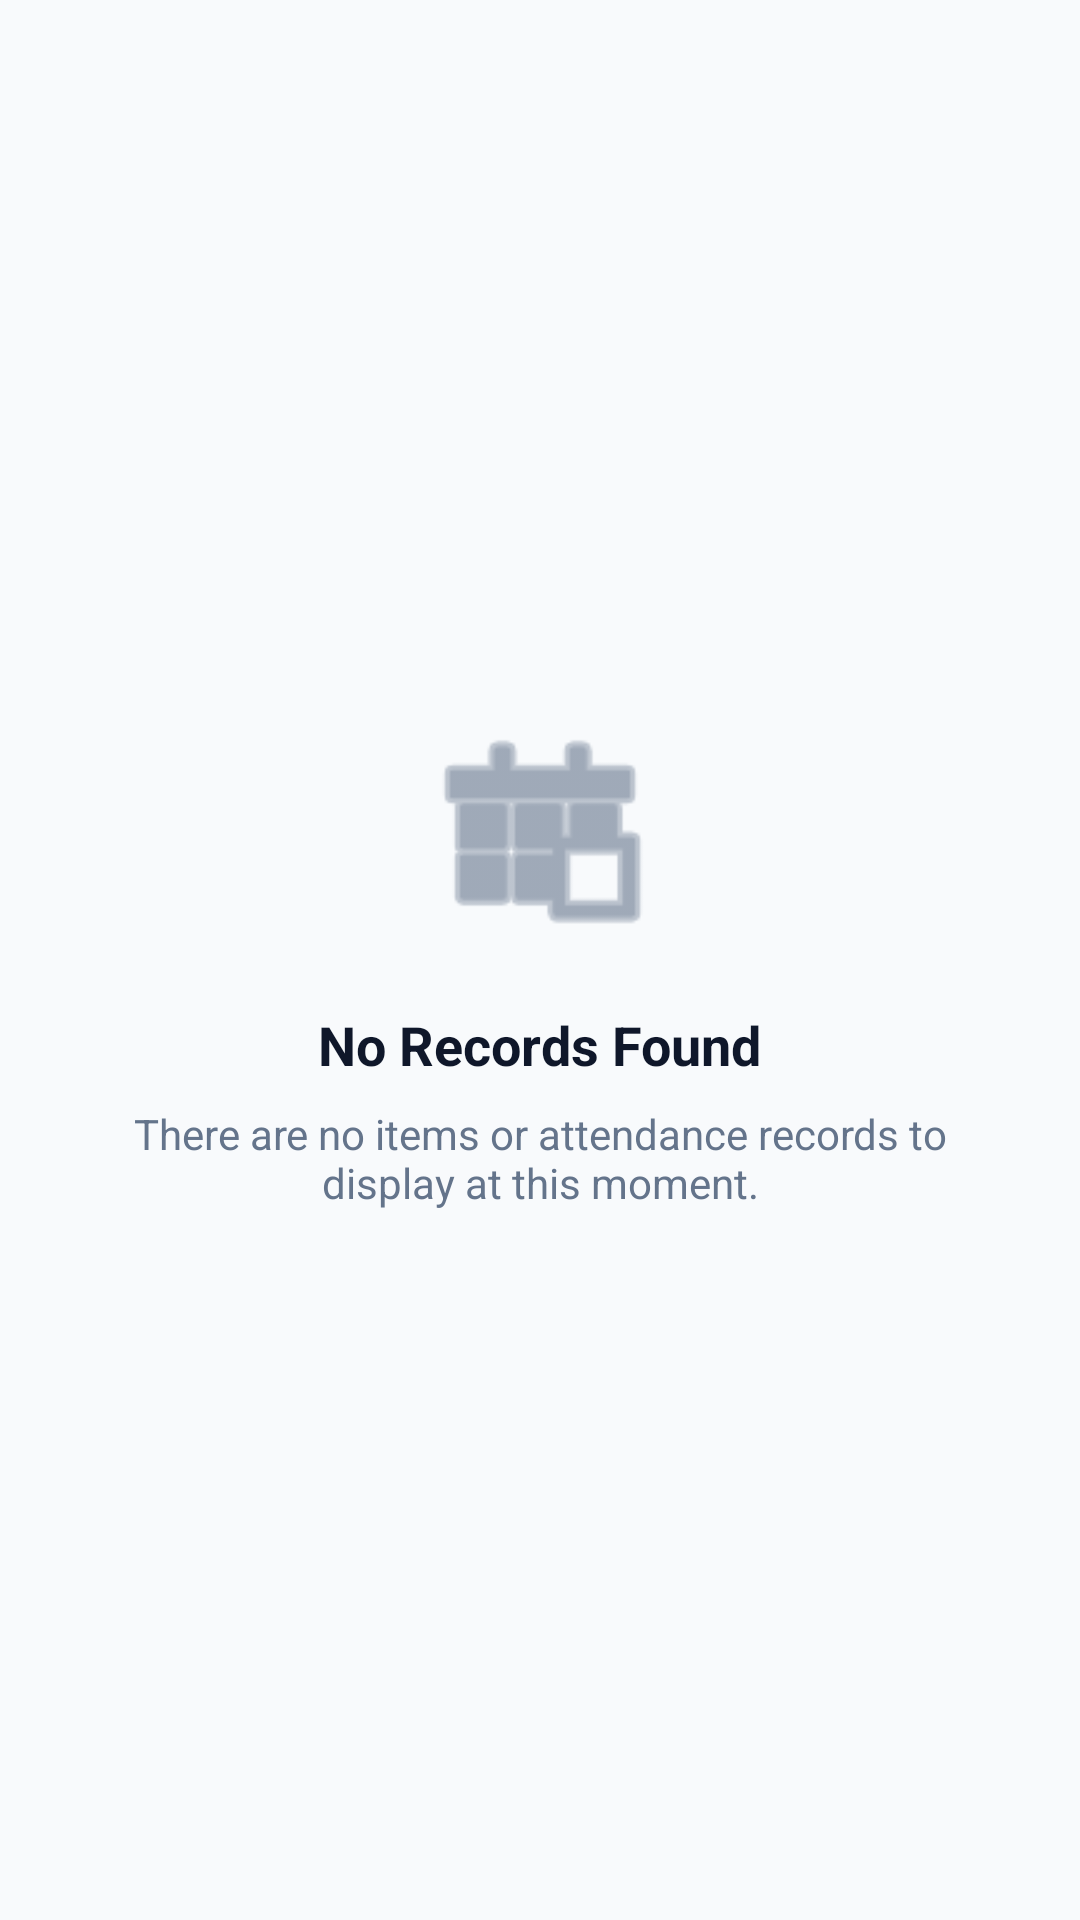

Named icons in this screenshot (1080 × 1920) and their centers, point (x, y):
today: point (542, 832)
